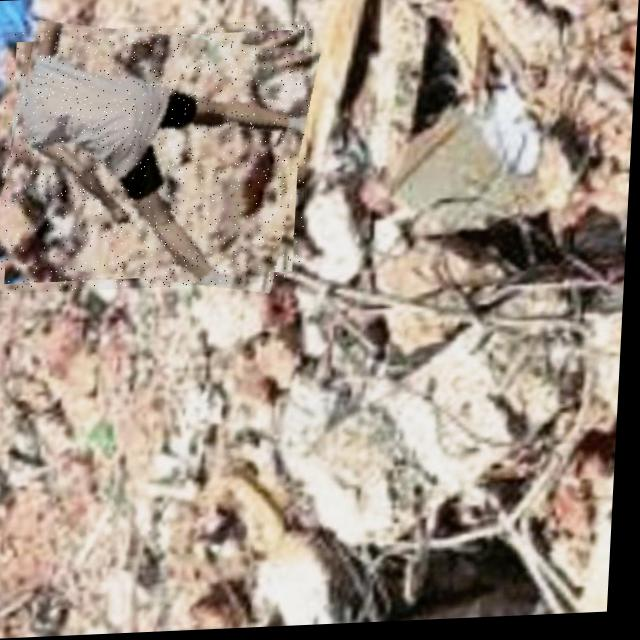Person in Rubble: (0, 21, 315, 294)
